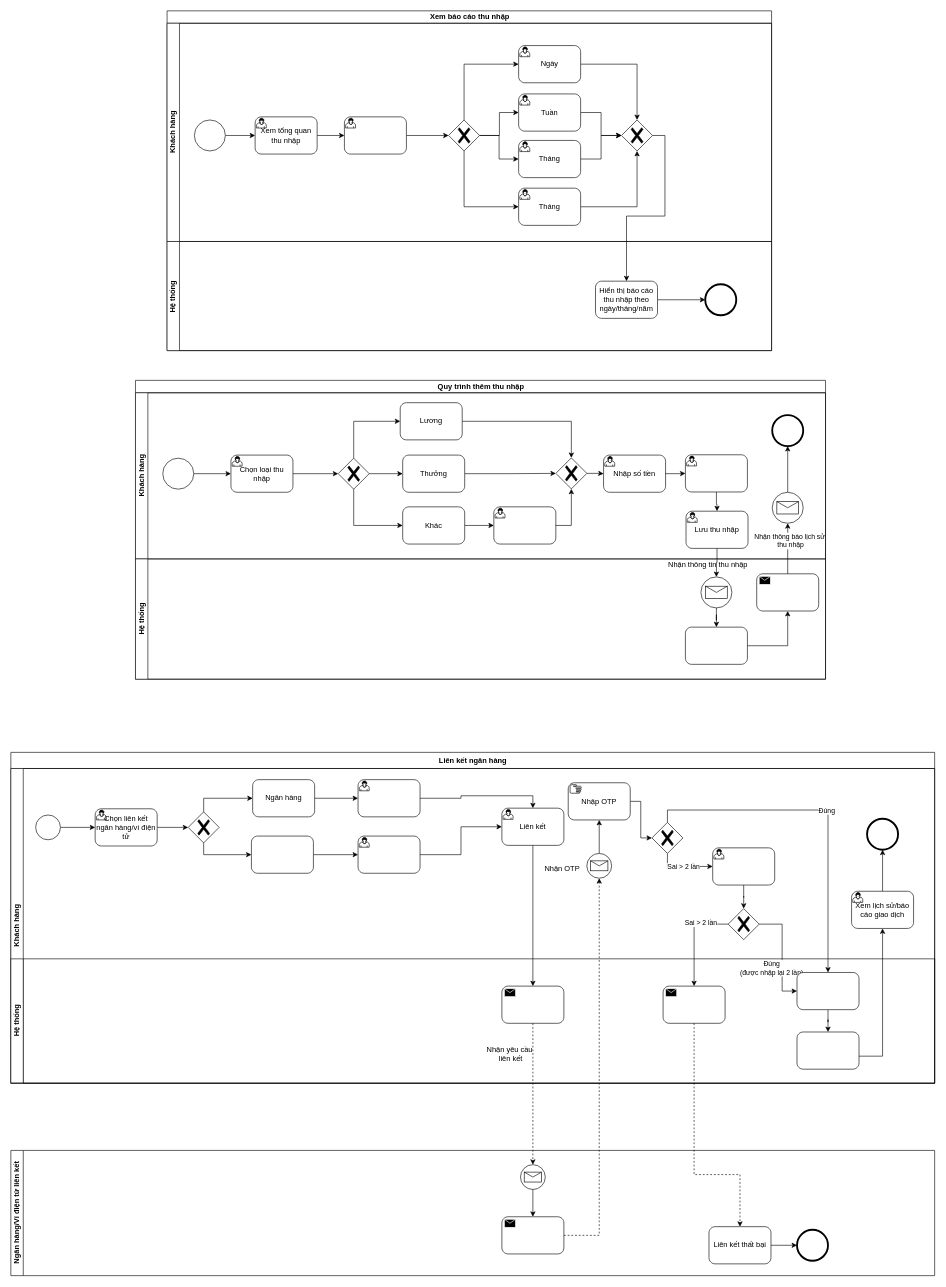
This 946x1287 diagram has some shape labels left out. Here are the shapes that lost their labels. From the top down, the centre of each, then its label:
At point (375, 135): "Chọn kỳ báo cáo".
At point (716, 473): "Nhập ngày nhận nguồn thu".
At point (524, 525): "Nhập tên loại thu nhập".
At point (787, 592): "Gửi thông báo nguồn thu mới".
At point (716, 645): "Lưu lịch sử thu nhập".
At point (388, 798): "Nhập thông tin tài khoản ngân hàng".
At point (282, 854): "Ví điện tử".
At point (388, 854): "Nhập thông tin ví điện tử".
At point (743, 866): "Nhập lại mã OTP".
At point (532, 1004): "Gửi yêu cầu liên kết".
At point (693, 1004): "Gửi cảnh báo".
At point (827, 991): "Liên kết thành công".
At point (827, 1050): "Đồng bộ toàn bộ lịch sử giao dịch".
At point (532, 1235): "Gửi OTP".
